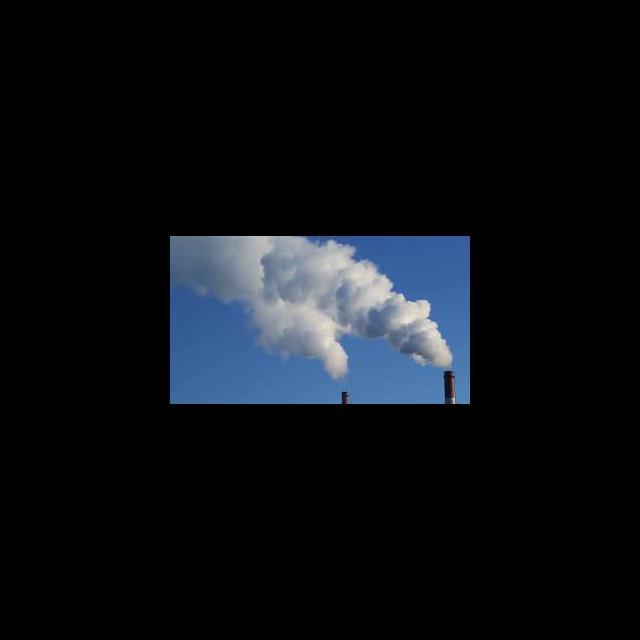Smoke: (170, 237, 458, 371)
